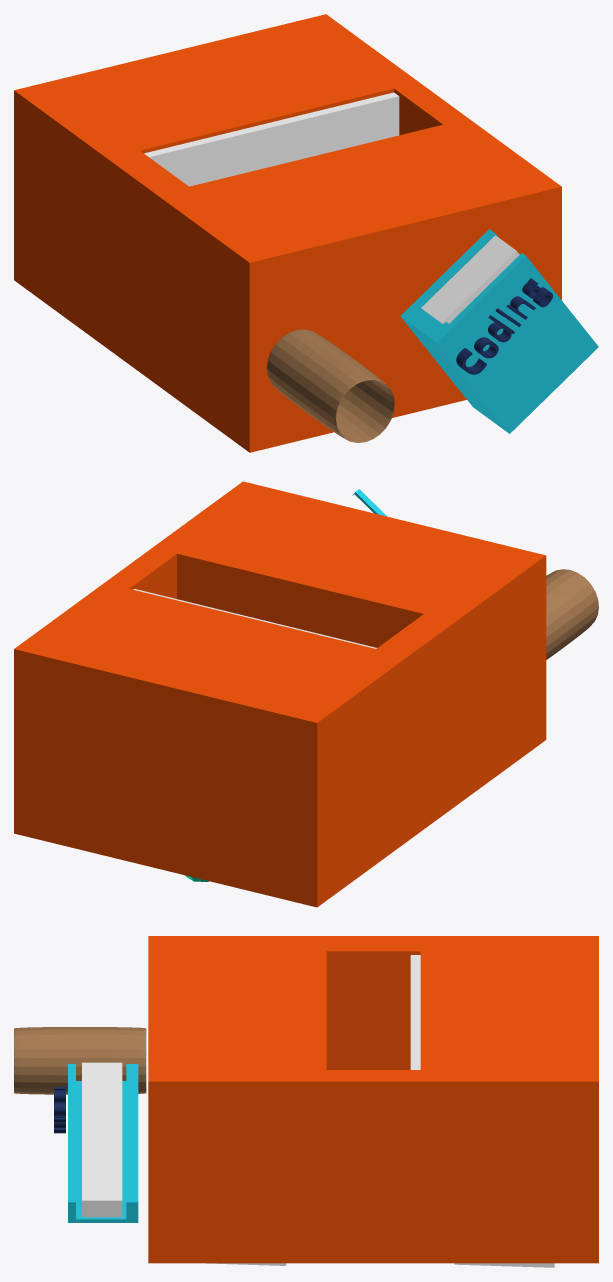
File: tinker.obj
3 views of the same model, one above another, from view 1: azimuth 30°, elevation 25°; view 2: azimuth 150°, elevation 25°; view 3: azimuth 270°, elevation 25° (orthographic). The views are drawn at different scales.
Parts seen in each view (by area): view 1: group_0_16732928, group_0_1954281, group_0_16448250, group_0_11107152, group_0_1650274; view 2: group_0_16732928, group_0_11107152, group_0_16448250; view 3: group_0_16732928, group_0_16448250, group_0_11107152, group_0_1954281, group_0_1650274.
Part boxes in pixels (x1=…): group_0_16732928: x1=14, y1=14, x2=561, y2=452; group_0_1954281: x1=400, y1=229, x2=598, y2=433; group_0_16448250: x1=144, y1=92, x2=519, y2=323; group_0_11107152: x1=266, y1=329, x2=394, y2=442; group_0_1650274: x1=456, y1=278, x2=552, y2=374; group_0_16732928: x1=14, y1=481, x2=546, y2=907; group_0_11107152: x1=546, y1=569, x2=598, y2=659; group_0_16448250: x1=133, y1=494, x2=376, y2=648; group_0_16732928: x1=148, y1=936, x2=598, y2=1263; group_0_16448250: x1=82, y1=955, x2=554, y2=1267; group_0_11107152: x1=14, y1=1027, x2=146, y2=1094; group_0_1954281: x1=68, y1=1064, x2=138, y2=1222; group_0_1650274: x1=54, y1=1087, x2=65, y2=1133.
Bounding box in the file's own units: 86 × 60 × 146.
